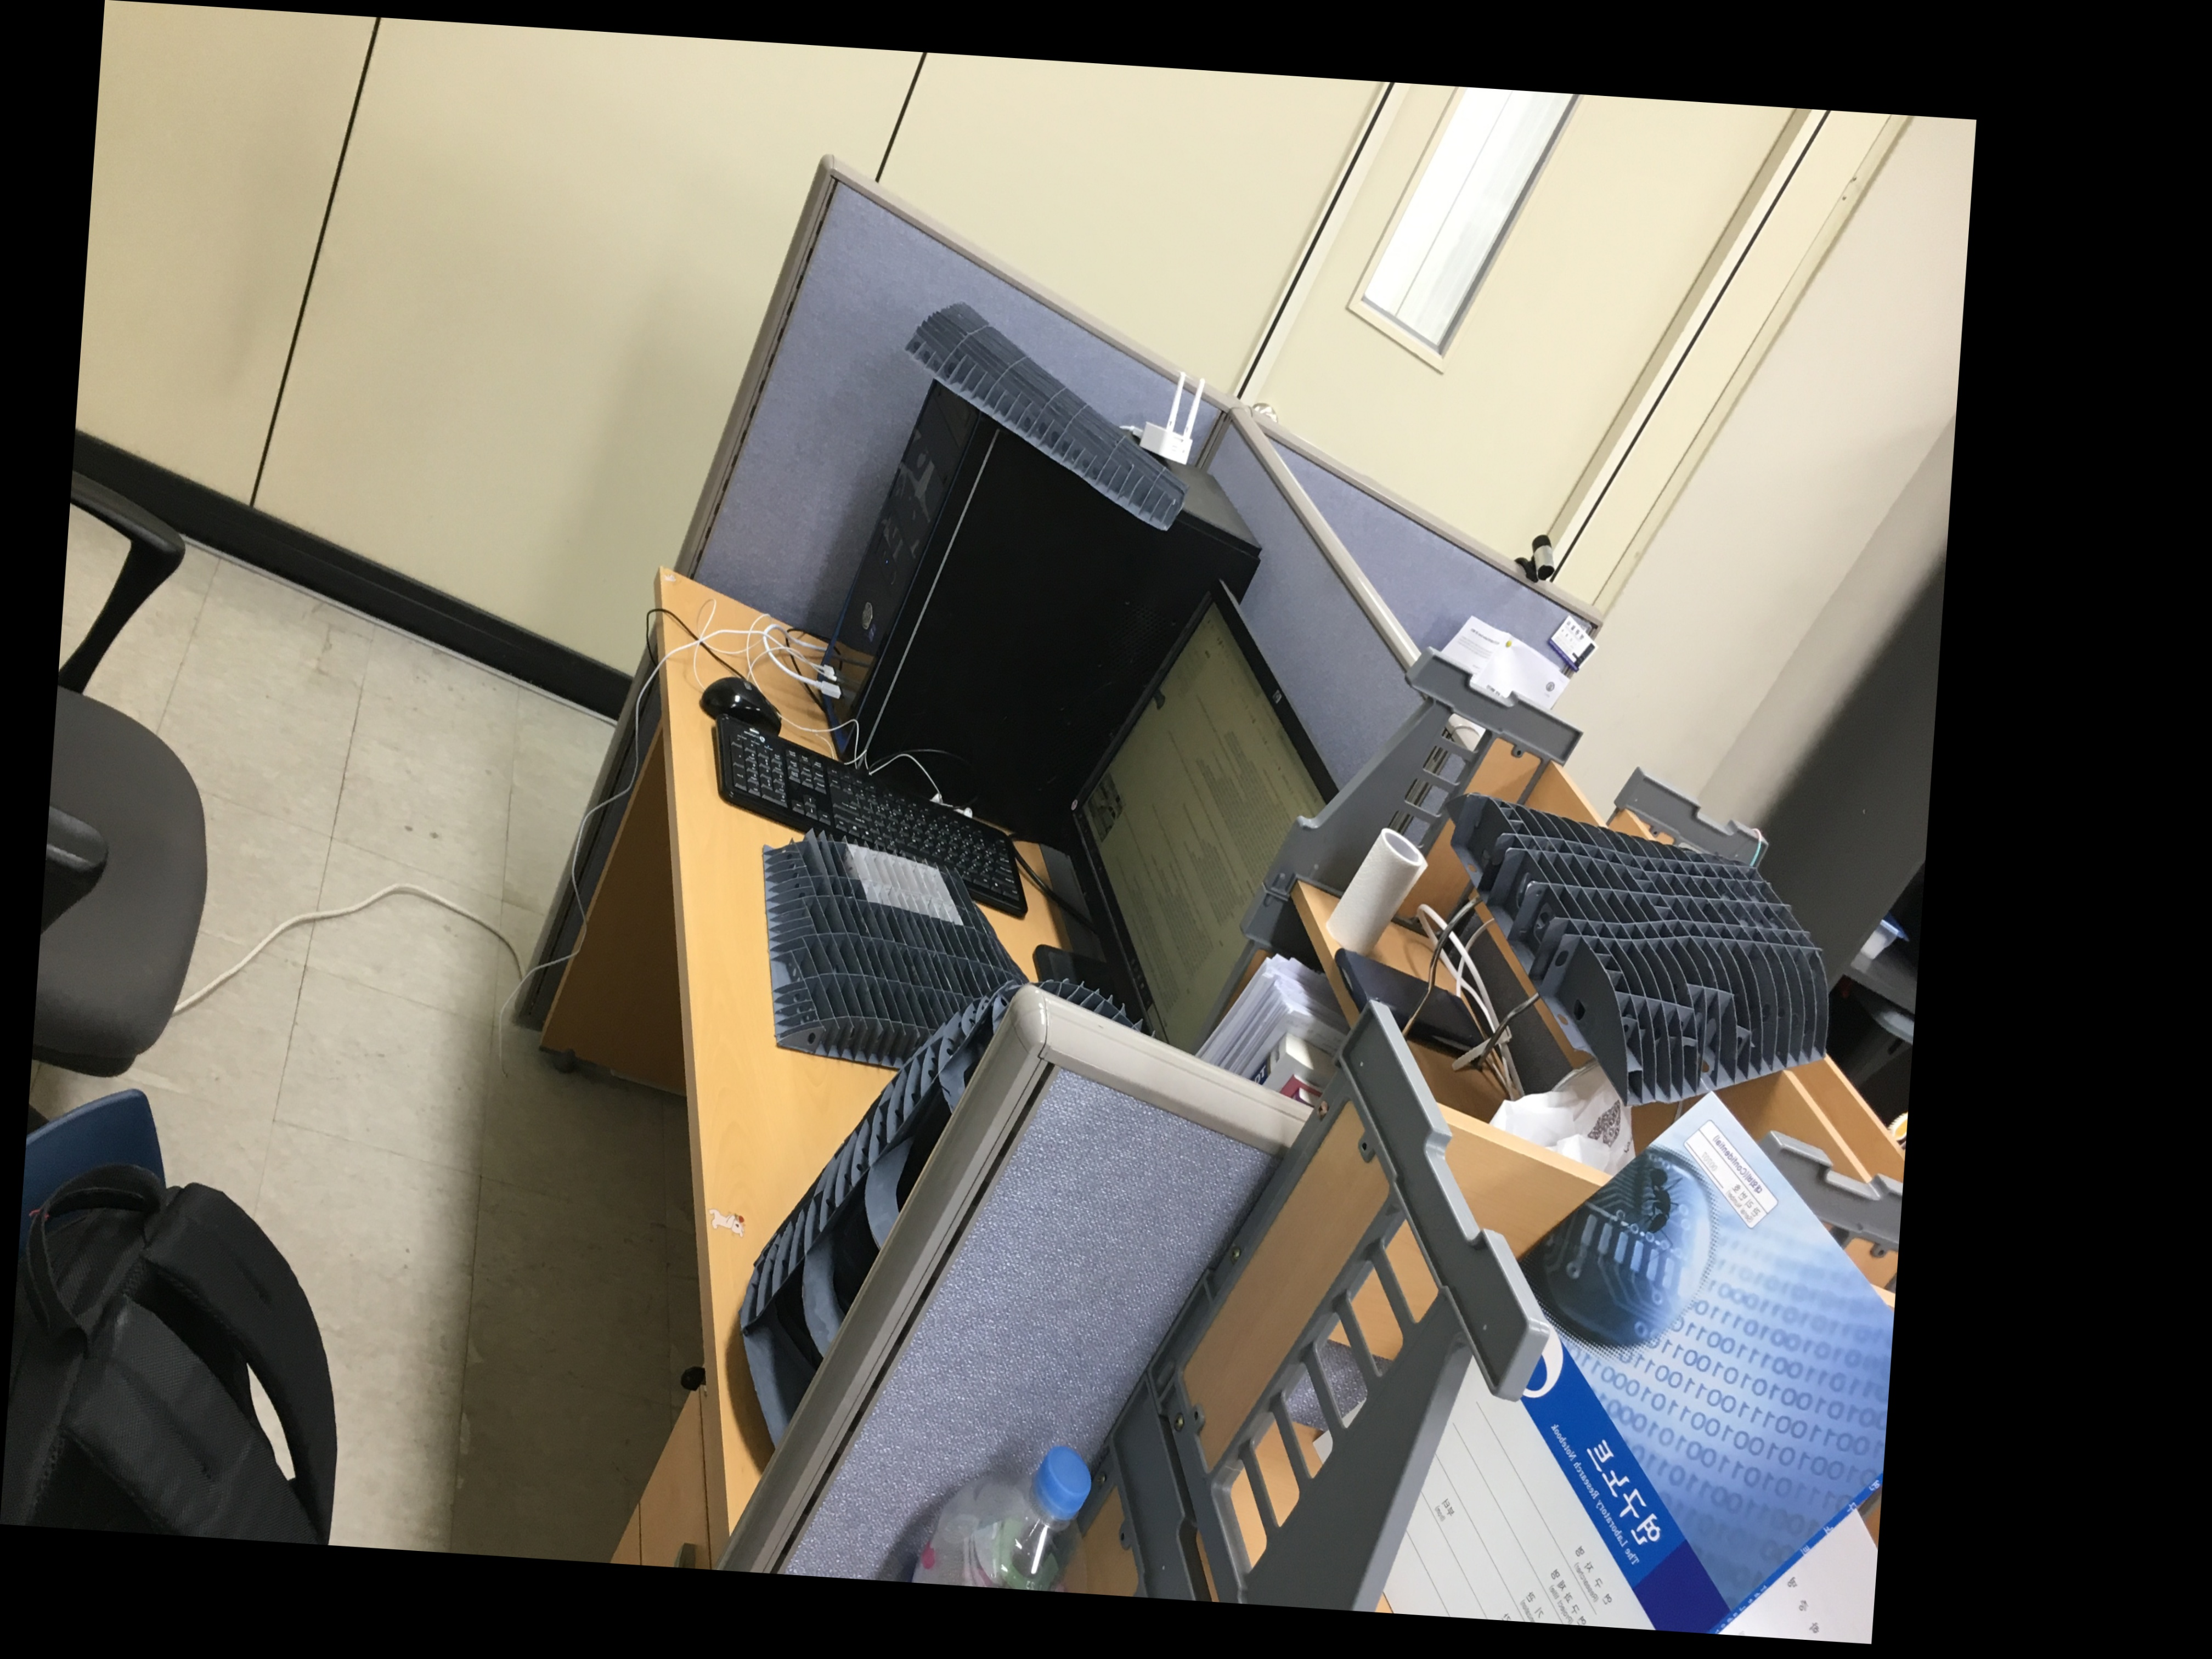A: (1393, 770, 1862, 1213)
B: (866, 288, 1195, 594)
